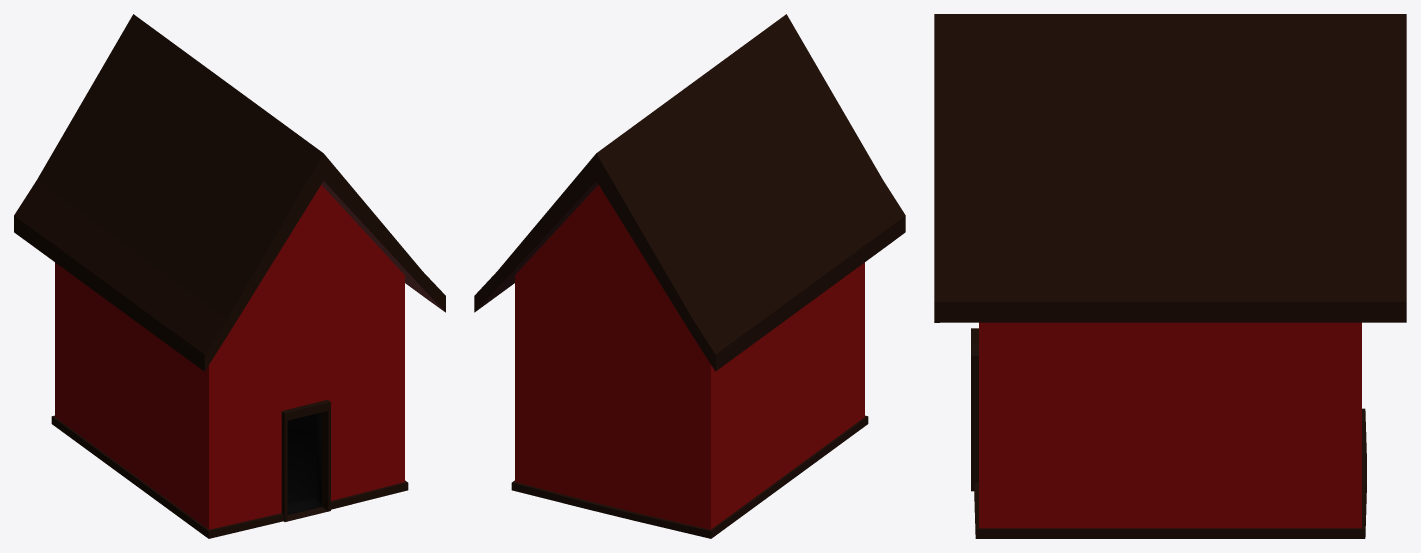
File: GreenBarraks.FBX
3 renders of one model, left to right at view 1: azimuth 30°, elevation 25°; view 2: azimuth 150°, elevation 25°; view 3: azimuth 270°, elevation 25°, orthographic. The views are drawn at different scales.
Visible parts, largest first — view 1: Box001; view 2: Box001; view 3: Box001.
Part boxes in pixels (x1=…): Box001: x1=14, y1=14, x2=445, y2=538; Box001: x1=474, y1=14, x2=905, y2=538; Box001: x1=934, y1=14, x2=1406, y2=538.
Bounding box in the file's own units: 116 × 159 × 172.
